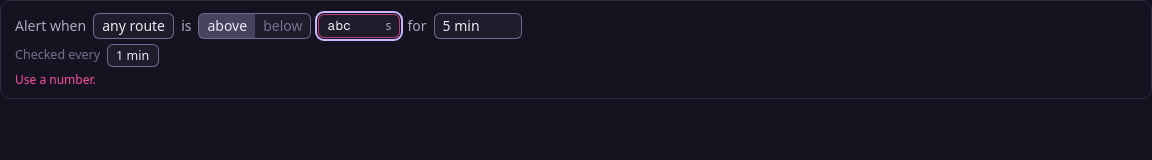
the rule sentence › the sentence reads as the prototype and changes by keyboard
The width and height of the screenshot is (1152, 160).
Earlier steps of the test are not shown.
expect the text "Use a number." is shown: met, box [15,71,96,88]
// Too large to be finite: refused like any other text.
Step 1. Clear the field named "Threshold" → (355, 26), box [328,15,382,37]
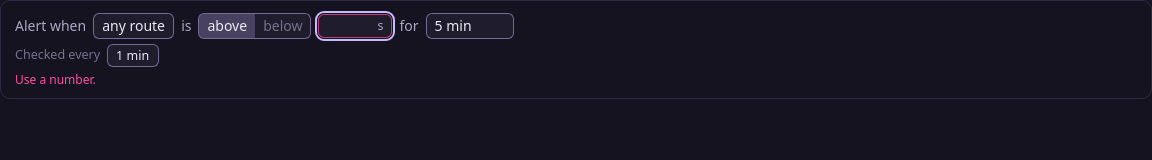
Step 2. Type keys "1e400"
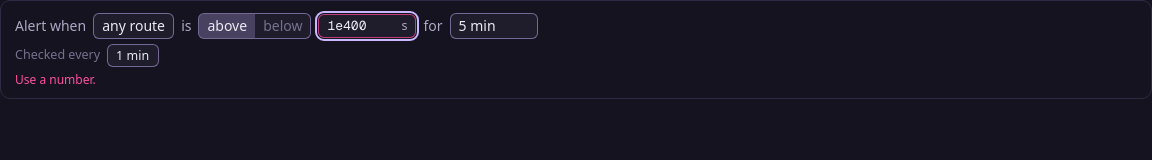
expect the text "Use a number." is shown: met, box [15,71,96,88]
Step 3. Clear the field named "Threshold" → (363, 26), box [328,15,398,37]
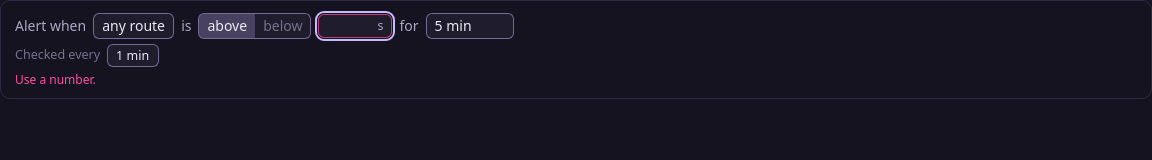
Step 4. Type "0.45" into the field named "Threshold" → (351, 26), box [328,15,374,37]
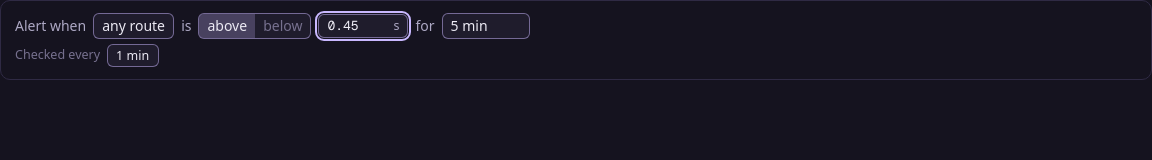
expect the text "Use a number." is gone: met
Step 5. Select "right away" in the dropdown named "For how long" → (486, 26), box [442,13,530,39]
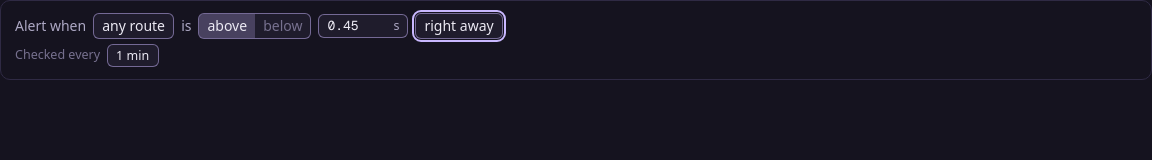
Step 6. Select "the total" in the dropdown named "Which series" → (134, 26), box [93,13,174,39]
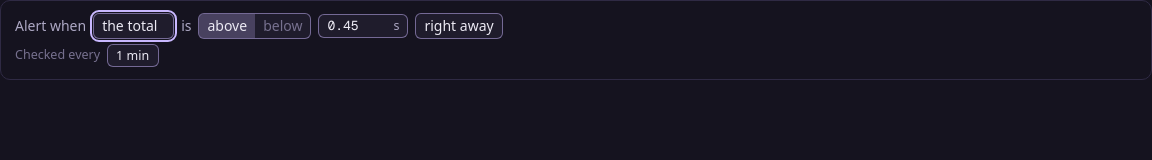
expect the element named "Alert when the total is above 0.45 s right away, checked every 1 min" is shown: met, box [0,0,1151,80]
